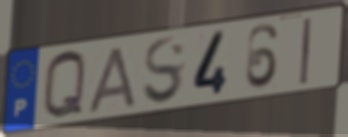4: (190, 27, 233, 100)
6: (244, 22, 281, 92)
A: (86, 44, 139, 115)
I: (298, 16, 314, 87)
Q: (41, 49, 88, 123)
S: (141, 35, 187, 107)
